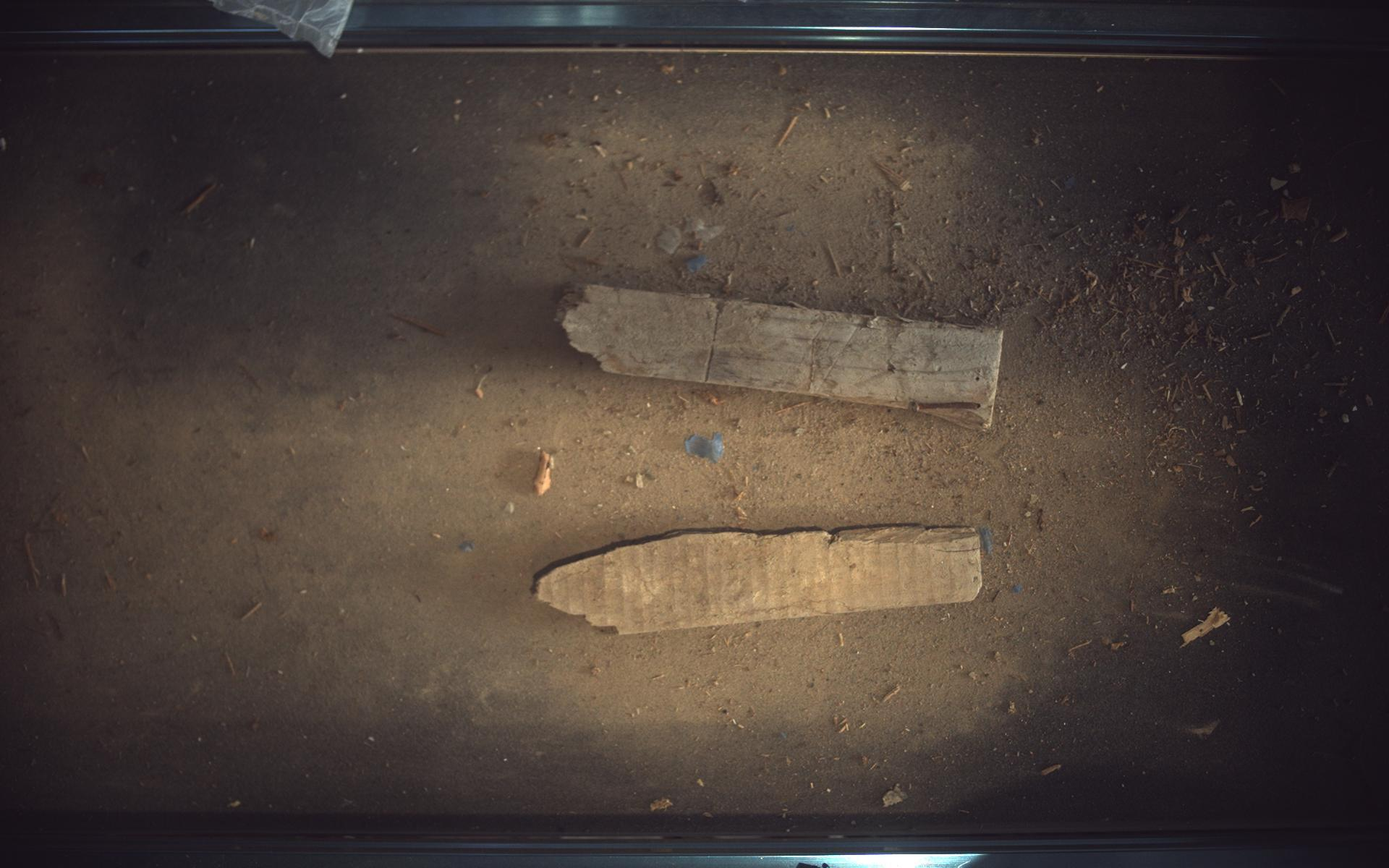wood: (557, 284, 1005, 430), (534, 526, 985, 635)
